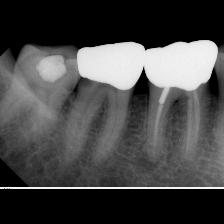apical_lesion: (126, 41, 220, 187)
